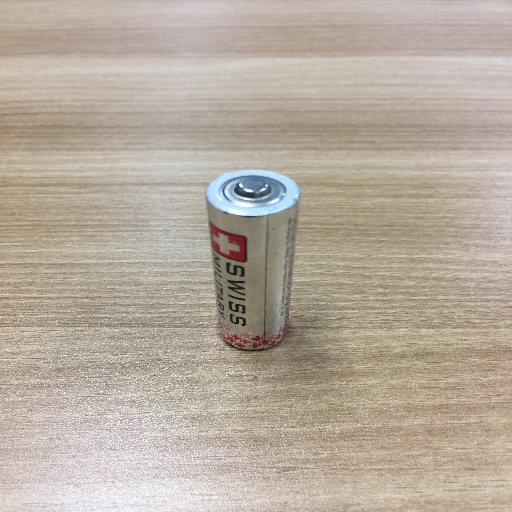Battery_0: (191, 148, 309, 366)
